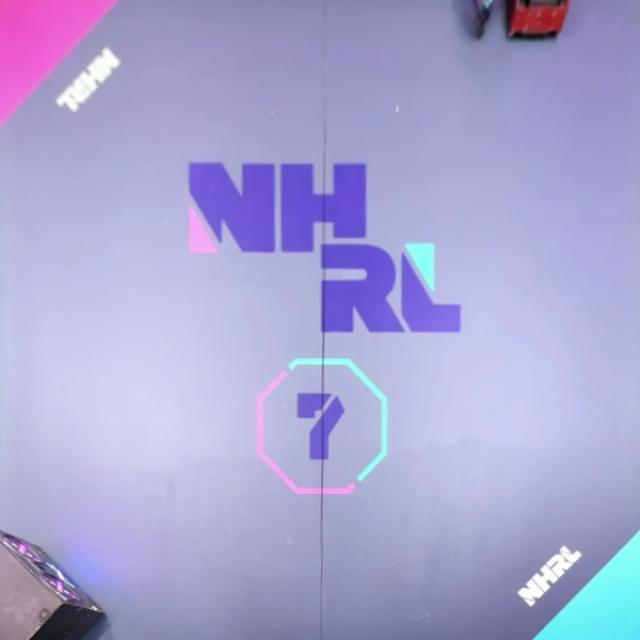housebot: (0, 531, 108, 640)
robot: (504, 0, 569, 41), (473, 0, 496, 43)
